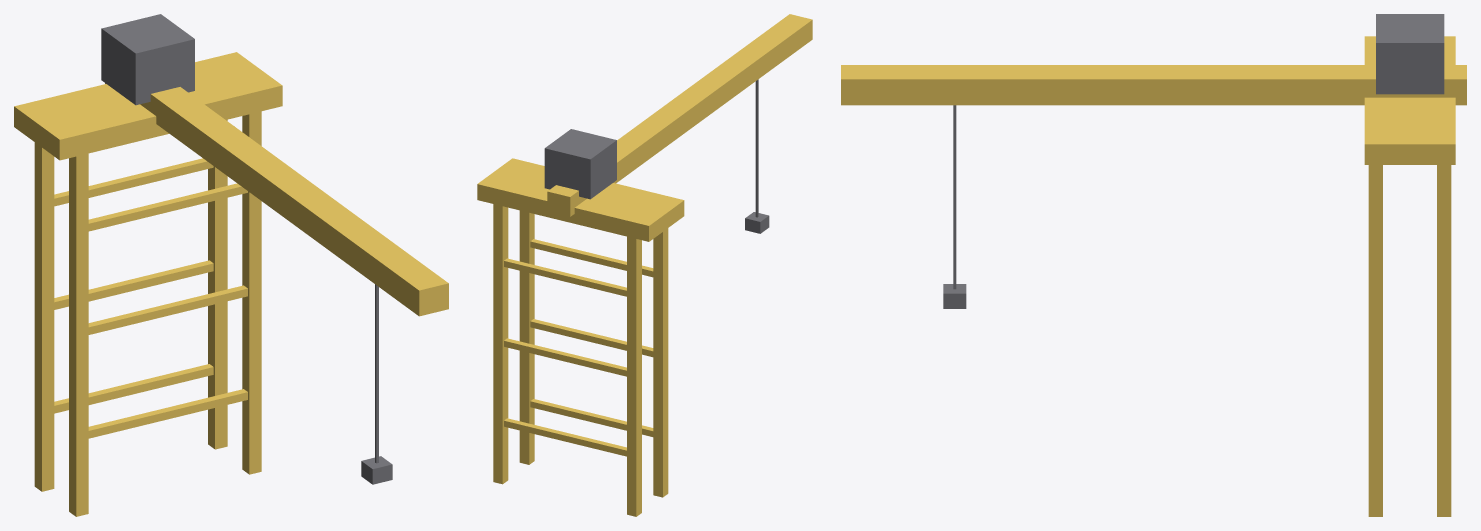
File: crane.glb
3 views of the same model, side by side, from view 1: azimuth 30°, elevation 25°; view 2: azimuth 150°, elevation 25°; view 3: azimuth 270°, elevation 25° (orthographic). The views are drawn at different scales.
Visible parts, largest first — view 1: Crane; view 2: Crane; view 3: Crane.
Boxes of the visible parts, x1,y1,x2,y2 form: Crane: [14, 14, 448, 516]; Crane: [477, 14, 812, 516]; Crane: [841, 14, 1466, 516].
Size of the model in its own units: 9 by 17.2 by 22.
